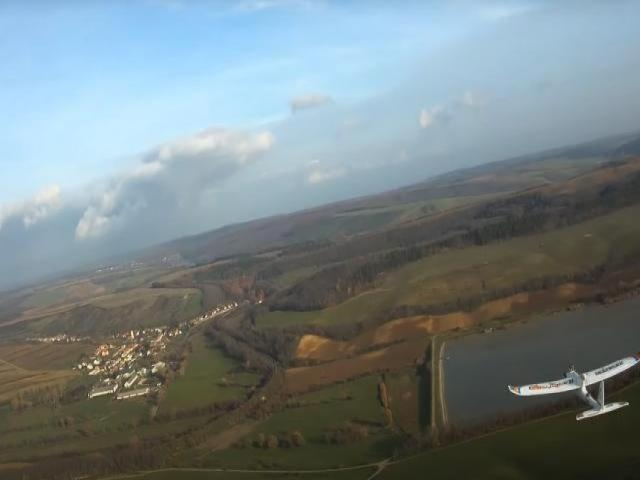iha: (505, 349, 640, 419)
